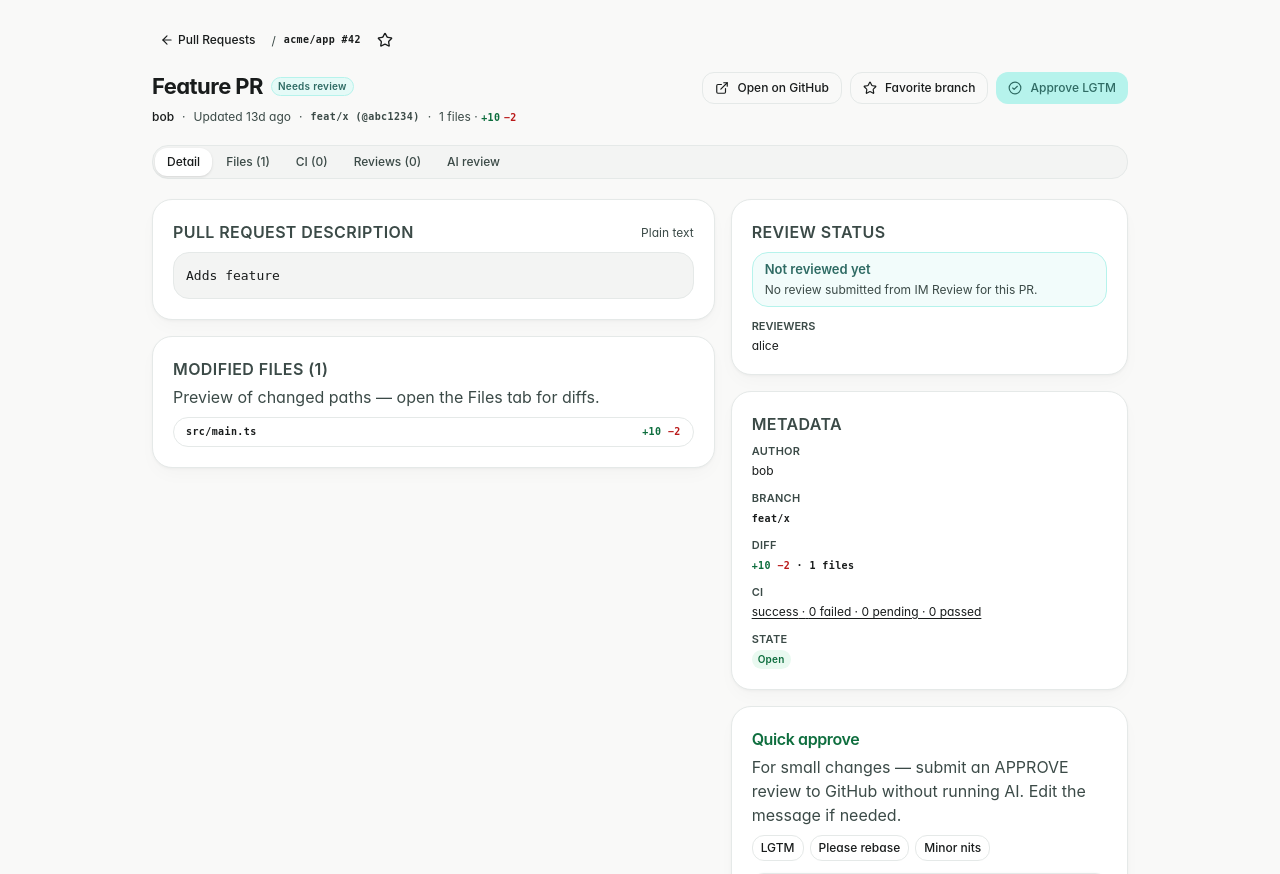
AiReviewPage › edits and deletes own conversation comments on Files tab
Expected: the heading "Feature PR" is shown, [152, 72, 263, 100]
Click the tab "Files (1)". click: [248, 162]
box: [214, 148, 282, 176]
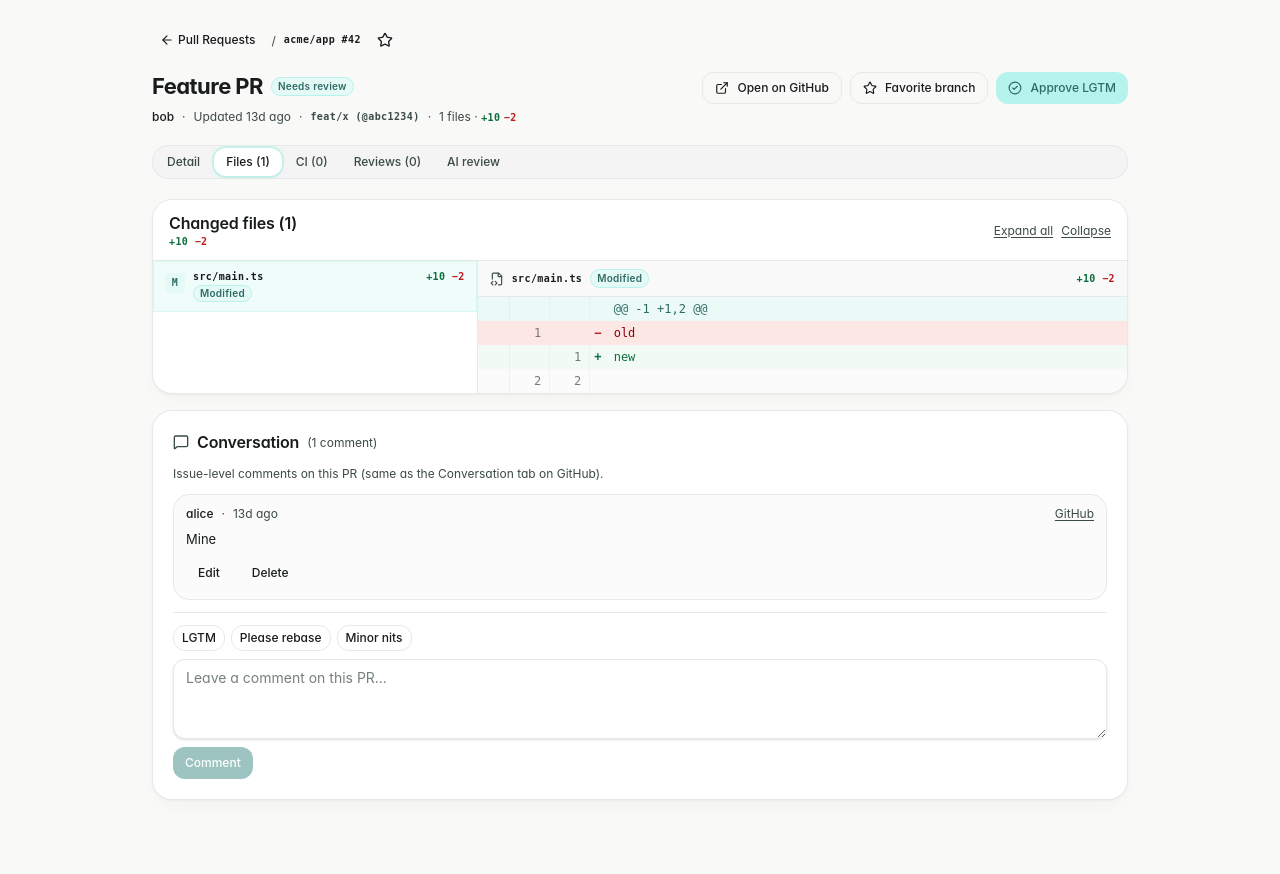
Expected: the text "Mine" is shown, [186, 531, 216, 547]
Click the button "Edit". click: [209, 573]
box: [186, 557, 232, 589]
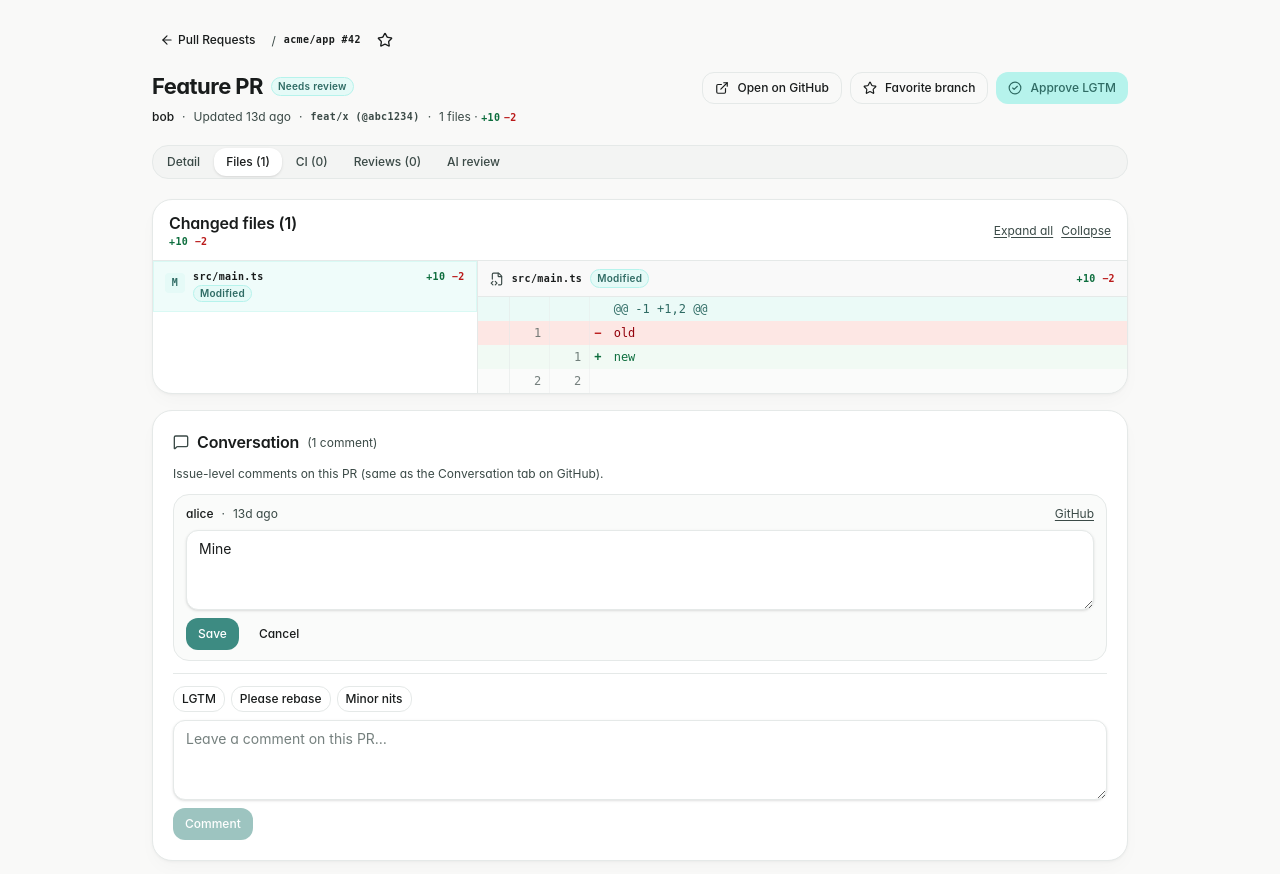
Replace the text in the text box named "Edit comment" with "Edited". click: [640, 570]
box: [186, 530, 1094, 610]
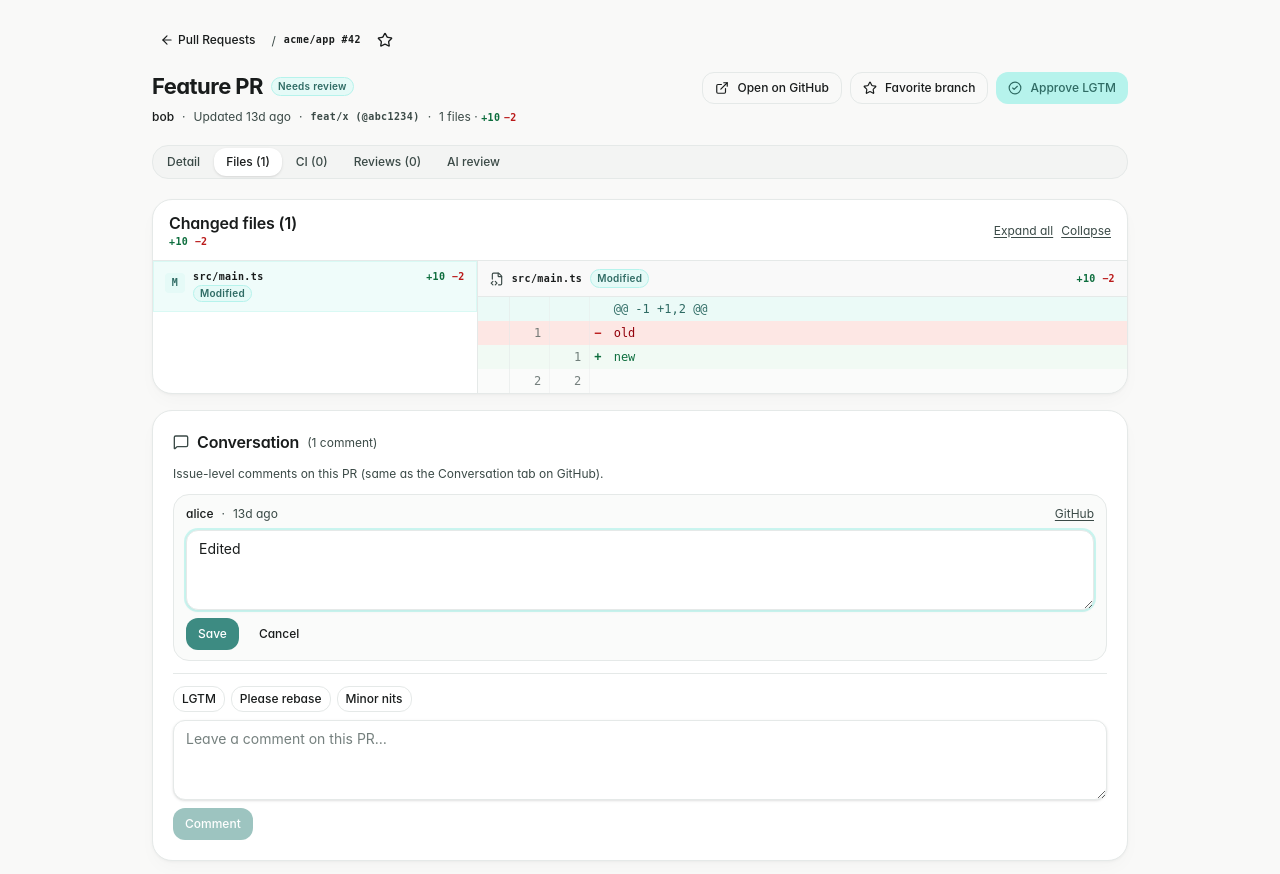
Click the button "Save". click: [212, 634]
box: [186, 618, 239, 650]
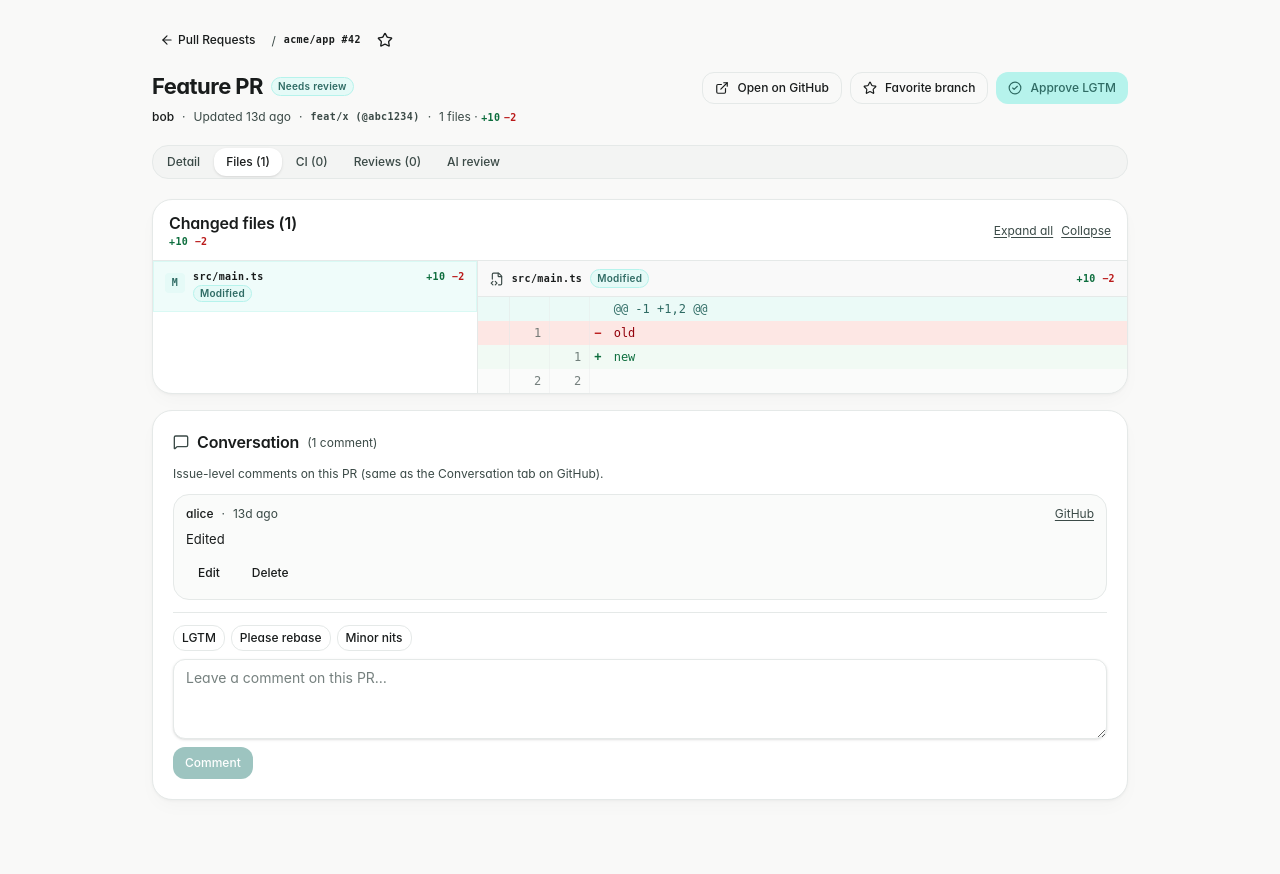
Expected: the text "Edited" is shown, [186, 531, 225, 547]
Click the button "Delete". click: [270, 573]
box: [240, 557, 301, 589]
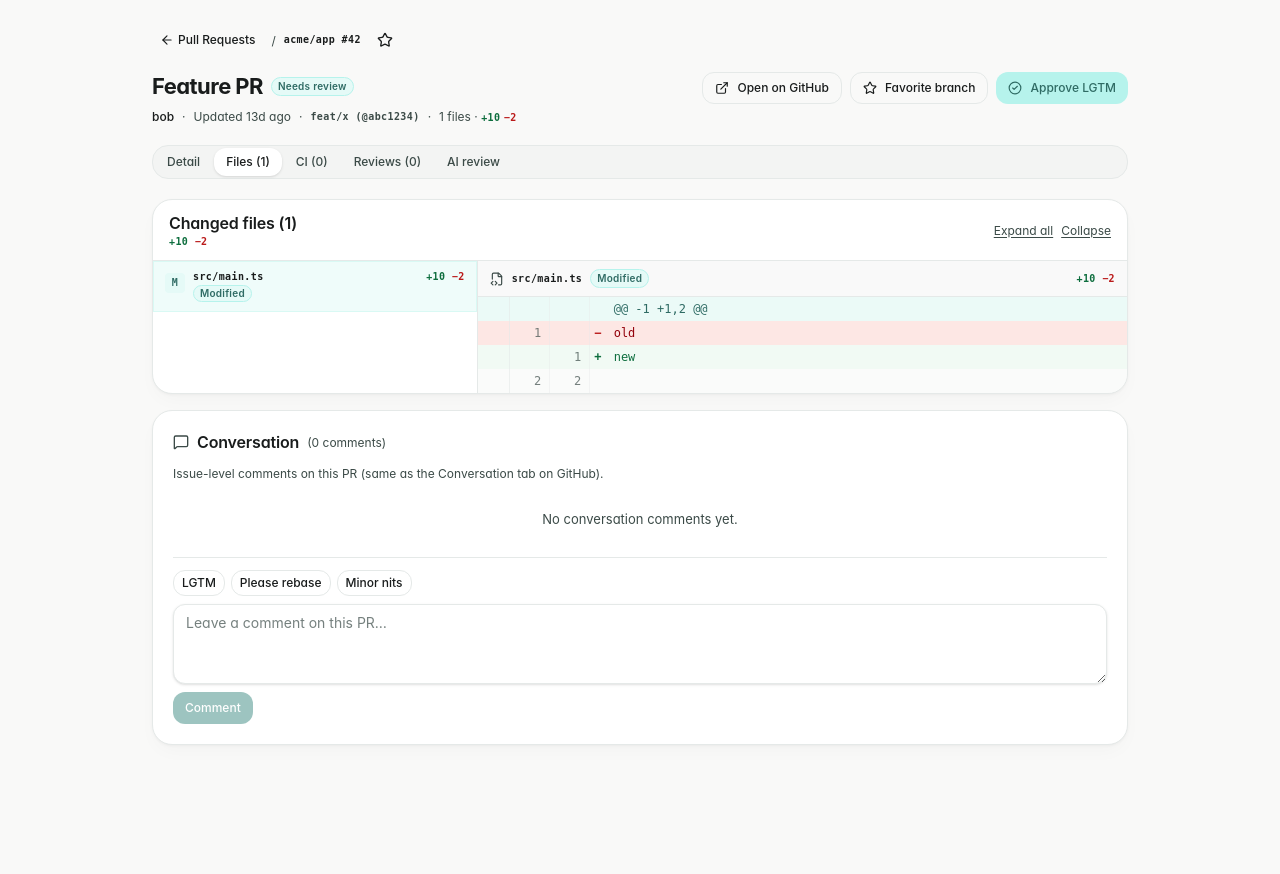
Expected: the text "Edited" is gone
